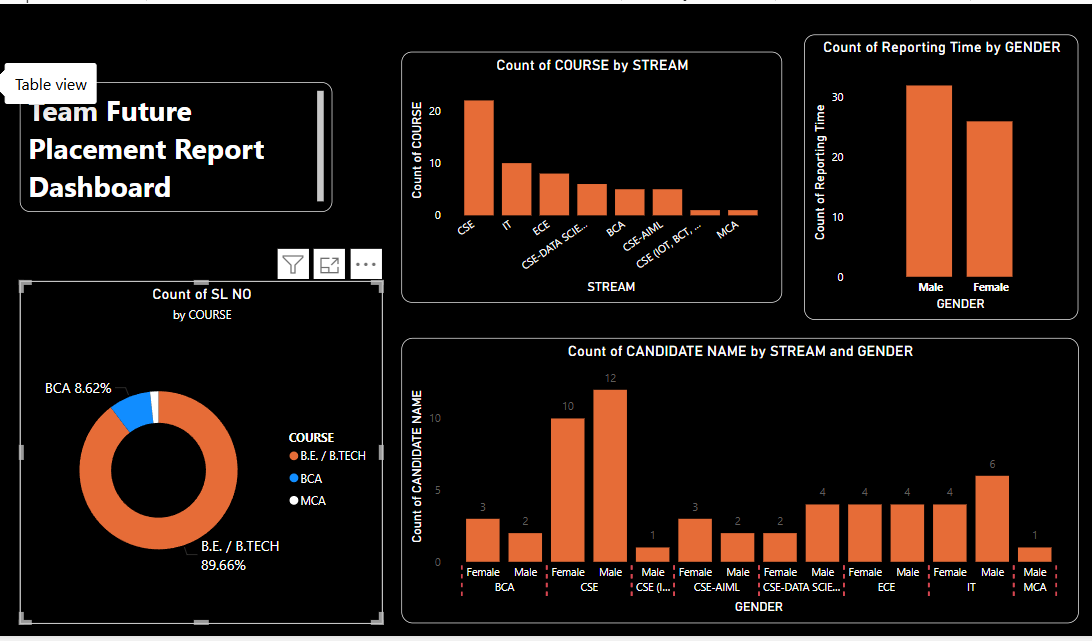

This screenshot's page, from the dashboard's own definition file:
{"tool":"powerbi","page":{"name":"Page 1","canvas":[1280,720],"ordinal":0},"visuals":[{"type":"columnChart","fields":{"Category":["FIEM.STREAM"],"Y":["FIEM.COURSE"]},"box":[471.5,54.5,434.2,286.3],"z":0},{"type":"columnChart","fields":{"Category":["FIEM.STREAM","FIEM.GENDER"],"Y":["FIEM.CANDIDATE NAME"]},"box":[471.5,381.2,771.8,325.2],"z":1000},{"type":"columnChart","fields":{"Category":["FIEM.GENDER"],"Y":["FIEM.Reporting Time"]},"box":[930.6,34.2,312.8,325.2],"z":2000},{"type":"donutChart","fields":{"Category":["FIEM.COURSE"],"Y":["FIEM.SL NO"]},"box":[35.8,315.9,413.9,390.6],"z":3000},{"type":"textbox","box":[35.8,88.7,356.3,147.8],"z":4000}]}

Visuals, with their boxes on the page's 1280x720 design canvas (x1, y1, x2, y2). These are canvas units, not pixel positions in the 1092x641 screenshot, which may show the page scaled, cropped or inside an application window:
columnChart - FIEM.STREAM x FIEM.COURSE: 472/54/906/341
columnChart - FIEM.STREAM x FIEM.GENDER: 472/381/1243/706
columnChart - FIEM.GENDER x FIEM.Reporting Time: 931/34/1243/359
donutChart - FIEM.COURSE x FIEM.SL NO: 36/316/450/706
textbox: 36/89/392/236
